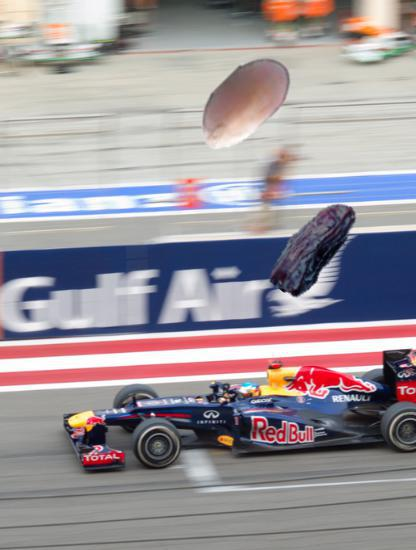Dates: (260, 192, 370, 302)
Hazelnut: (185, 46, 301, 162)
